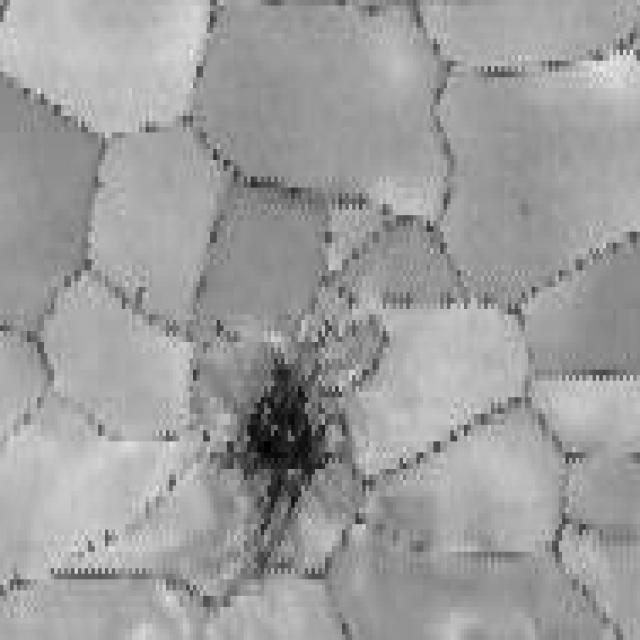good_void: (212, 340, 350, 559)
